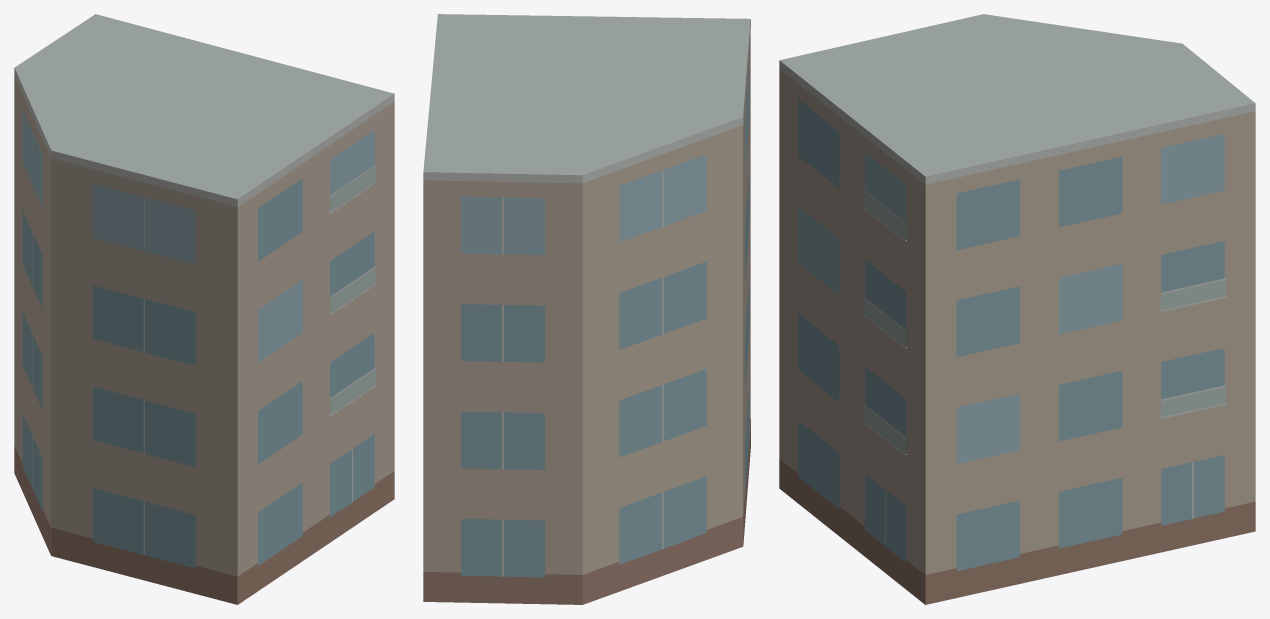
File: survey-upis-32670791.glb
3 views of the same model, side by side, from view 1: azimuth 30°, elevation 25°; view 2: azimuth 150°, elevation 25°; view 3: azimuth 270°, elevation 25° (orthographic). The views are drawn at different scales.
Visible parts, largest first — view 1: survey-upis-32670791.tmp; view 2: survey-upis-32670791.tmp; view 3: survey-upis-32670791.tmp.
Part boxes in pixels (box(x1,y1,x2,y2)): survey-upis-32670791.tmp: box(14, 14, 394, 604); survey-upis-32670791.tmp: box(423, 14, 750, 604); survey-upis-32670791.tmp: box(779, 14, 1255, 604).
Size of the model in its own units: 10.44 by 12.8 by 12.91.
